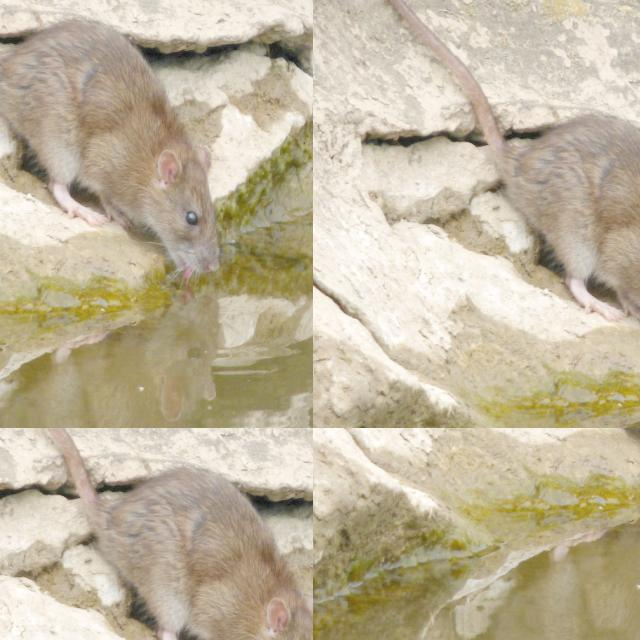rat: (162, 94, 233, 240), (248, 79, 313, 200)
